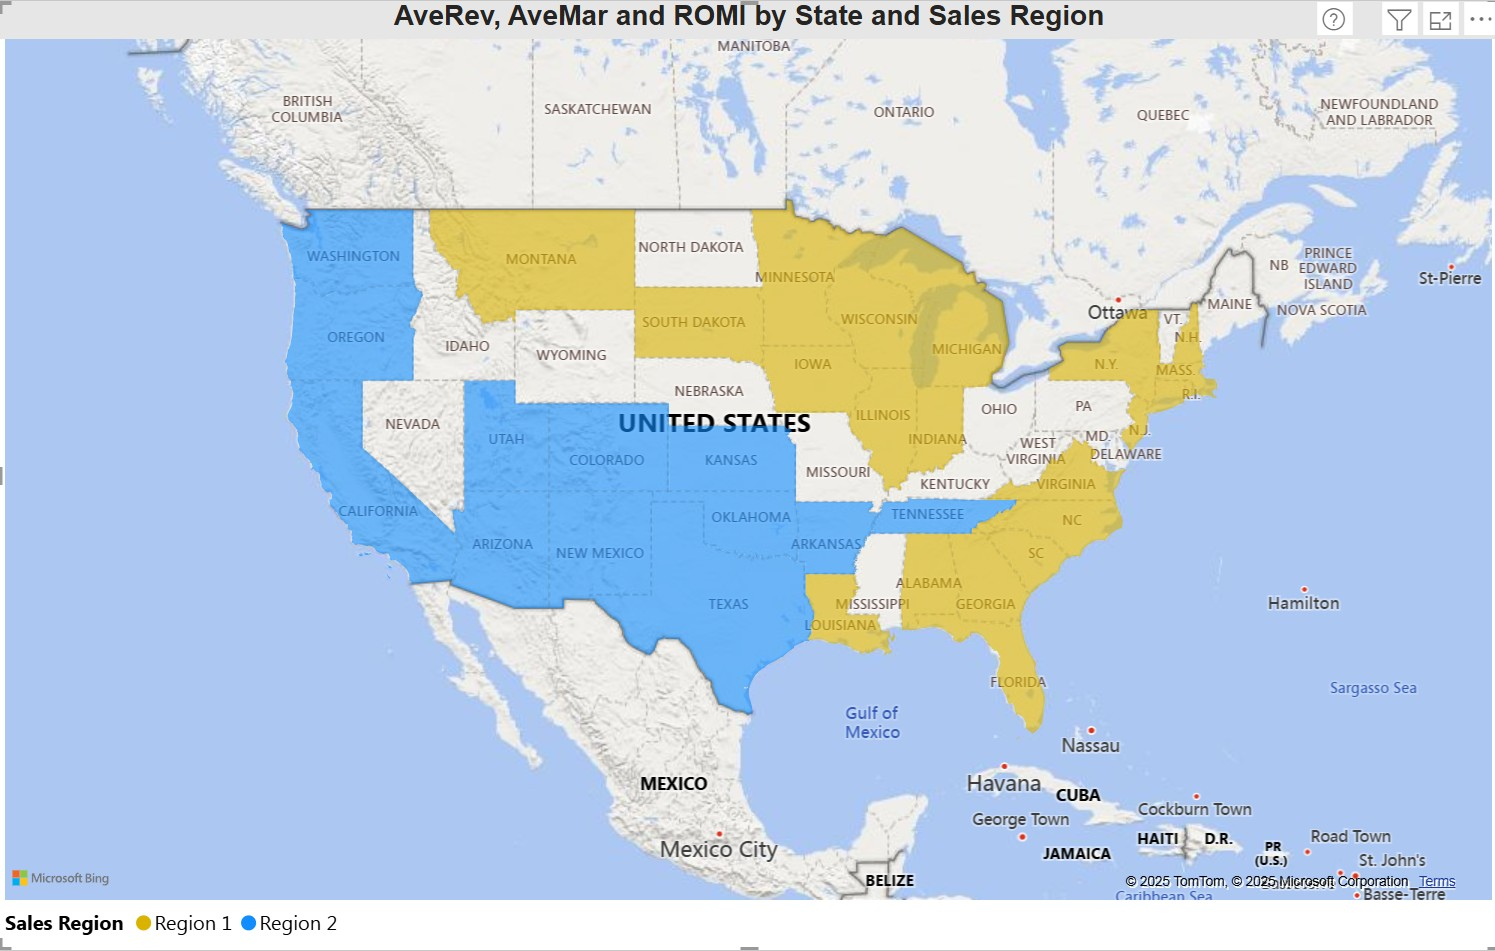

Layout of this report page (visuals, bound fields, positions):
{"tool":"powerbi","page":{"name":"Task 1","canvas":[1280,720],"ordinal":0},"visuals":[{"type":"filledMap","fields":{"Category":["Sheet1.State"],"Series":["Sheet1.Sales Region"]},"box":[164.5,69.5,1002.3,634],"z":0}]}

Visuals, with their boxes on the page's 1280x720 design canvas (x1, y1, x2, y2). These are canvas units, not pixel positions in the 1495x951 screenshot, which may show the page scaled, cropped or inside an application window:
filledMap - Sheet1.State x Sheet1.Sales Region: bbox=[164, 70, 1167, 704]
